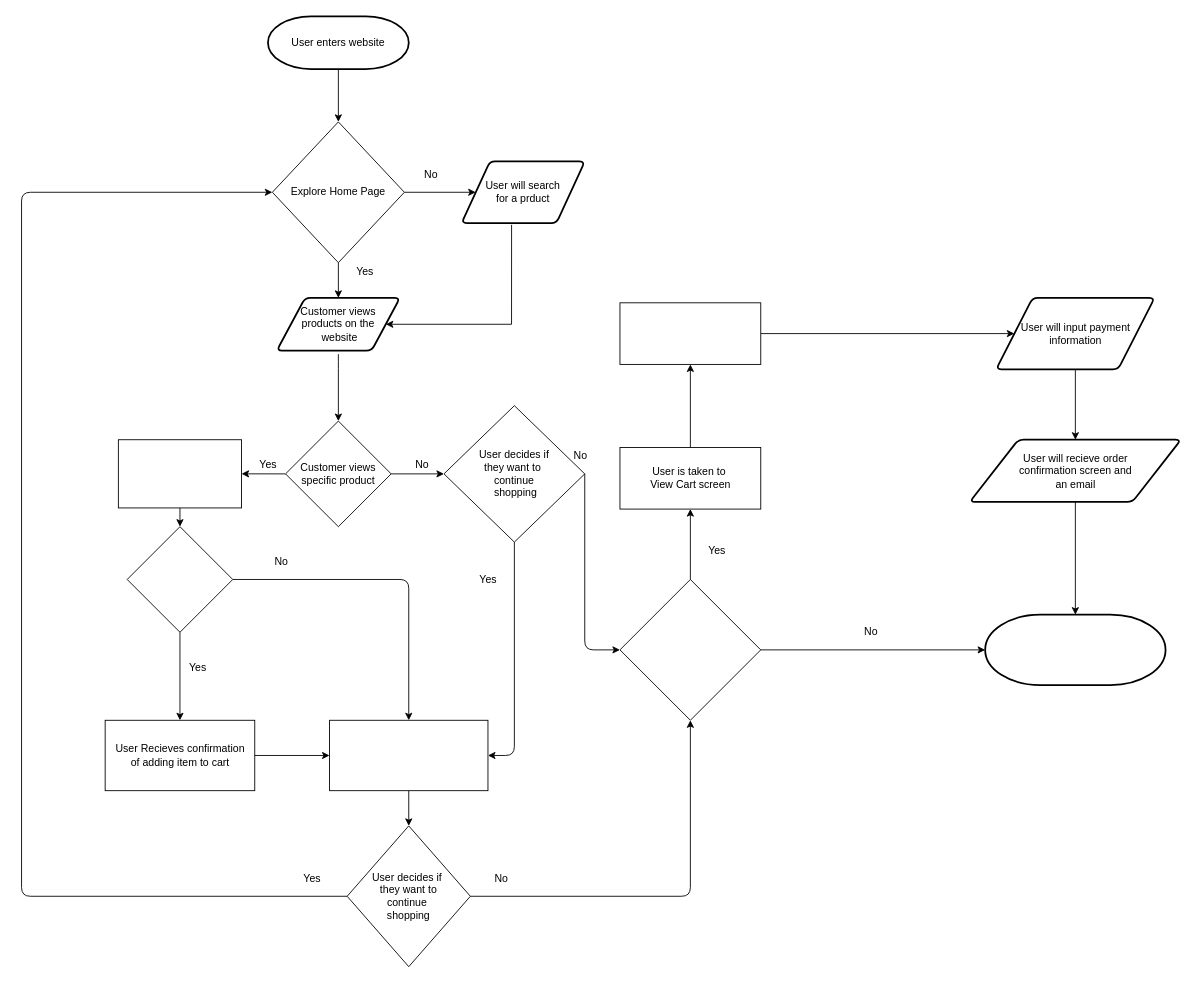
This 1197x982 diagram has some shape labels left out. The centre of each missing label's shape, as x and y in pixels:
"Customer can add the product to the cart." goes at point (179, 579).
"Products webpage will open." goes at point (179, 473).
"User continues shopping" goes at point (408, 755).
"User decides if they want to checkout" goes at point (690, 649).
"User is taken to View Payment screen" goes at point (690, 333).
"User leaves the website" goes at point (1075, 649).
